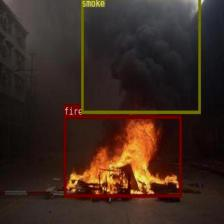fire: (63, 115, 181, 197)
smoke: (81, 0, 200, 113)
